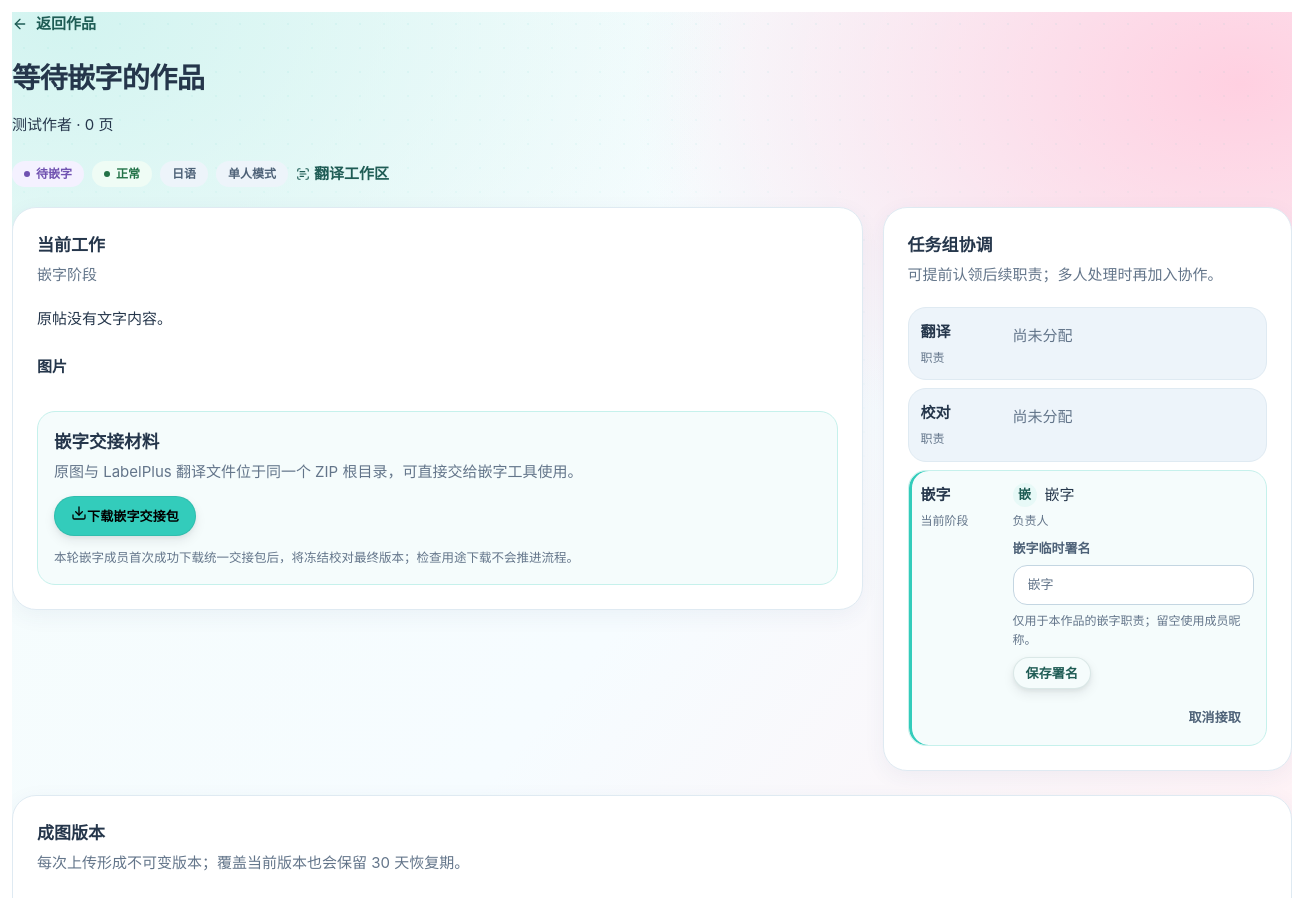
refreshes the typeset upload revision after downloading a handoff package
Click the button "下载嵌字交接包": click(125, 516) [54,496,196,536]
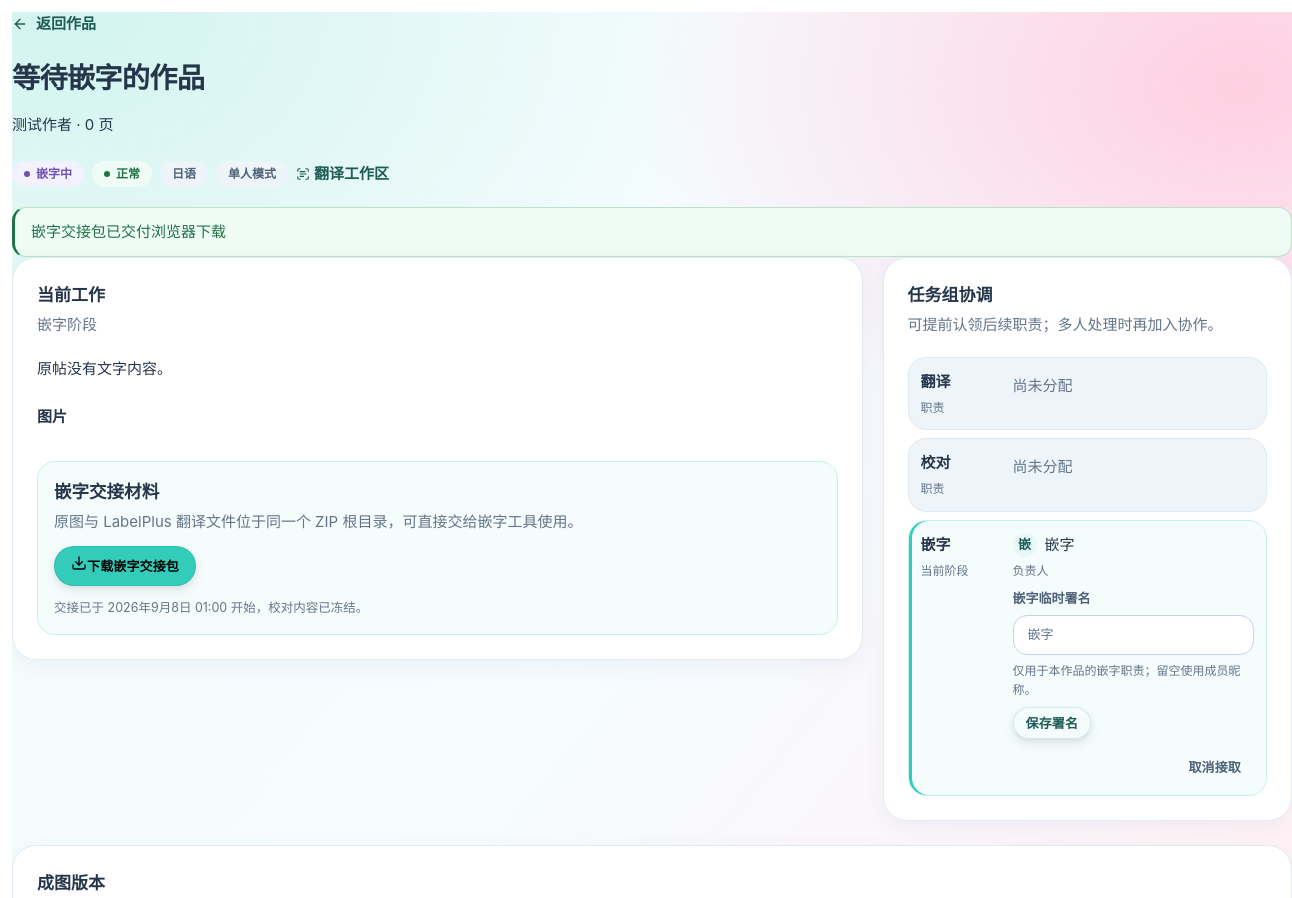
Now the text "嵌字交接包已交付浏览器下载" is shown, box [12,207,1291,257]
